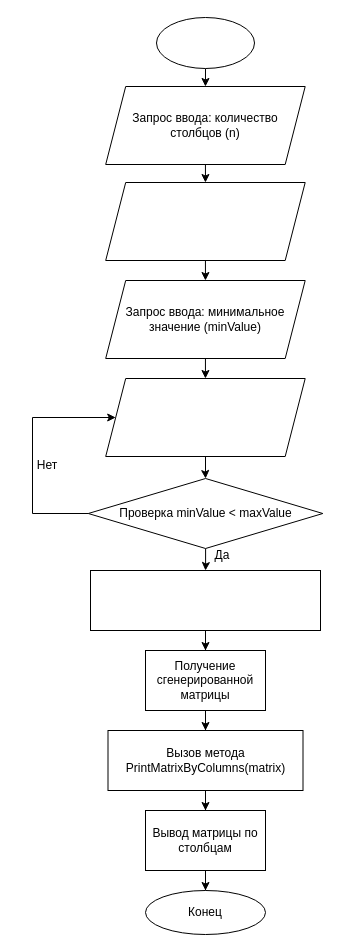
The diagram is 340 pixels wide and 952 high, and some of its shapes have lost their labels. Here are the shapes that lost their labels. From the top down, the centre of each, then its label:
At pixel 205 42: "Начало".
At pixel 205 221: "Запрос ввода: количество строк (m)".
At pixel 205 417: "Запрос ввода: максимальное значение (maxValue)".
At pixel 205 600: "Вызов метода GenerateRandomMatrix(n, m, minValue, maxValue)".
